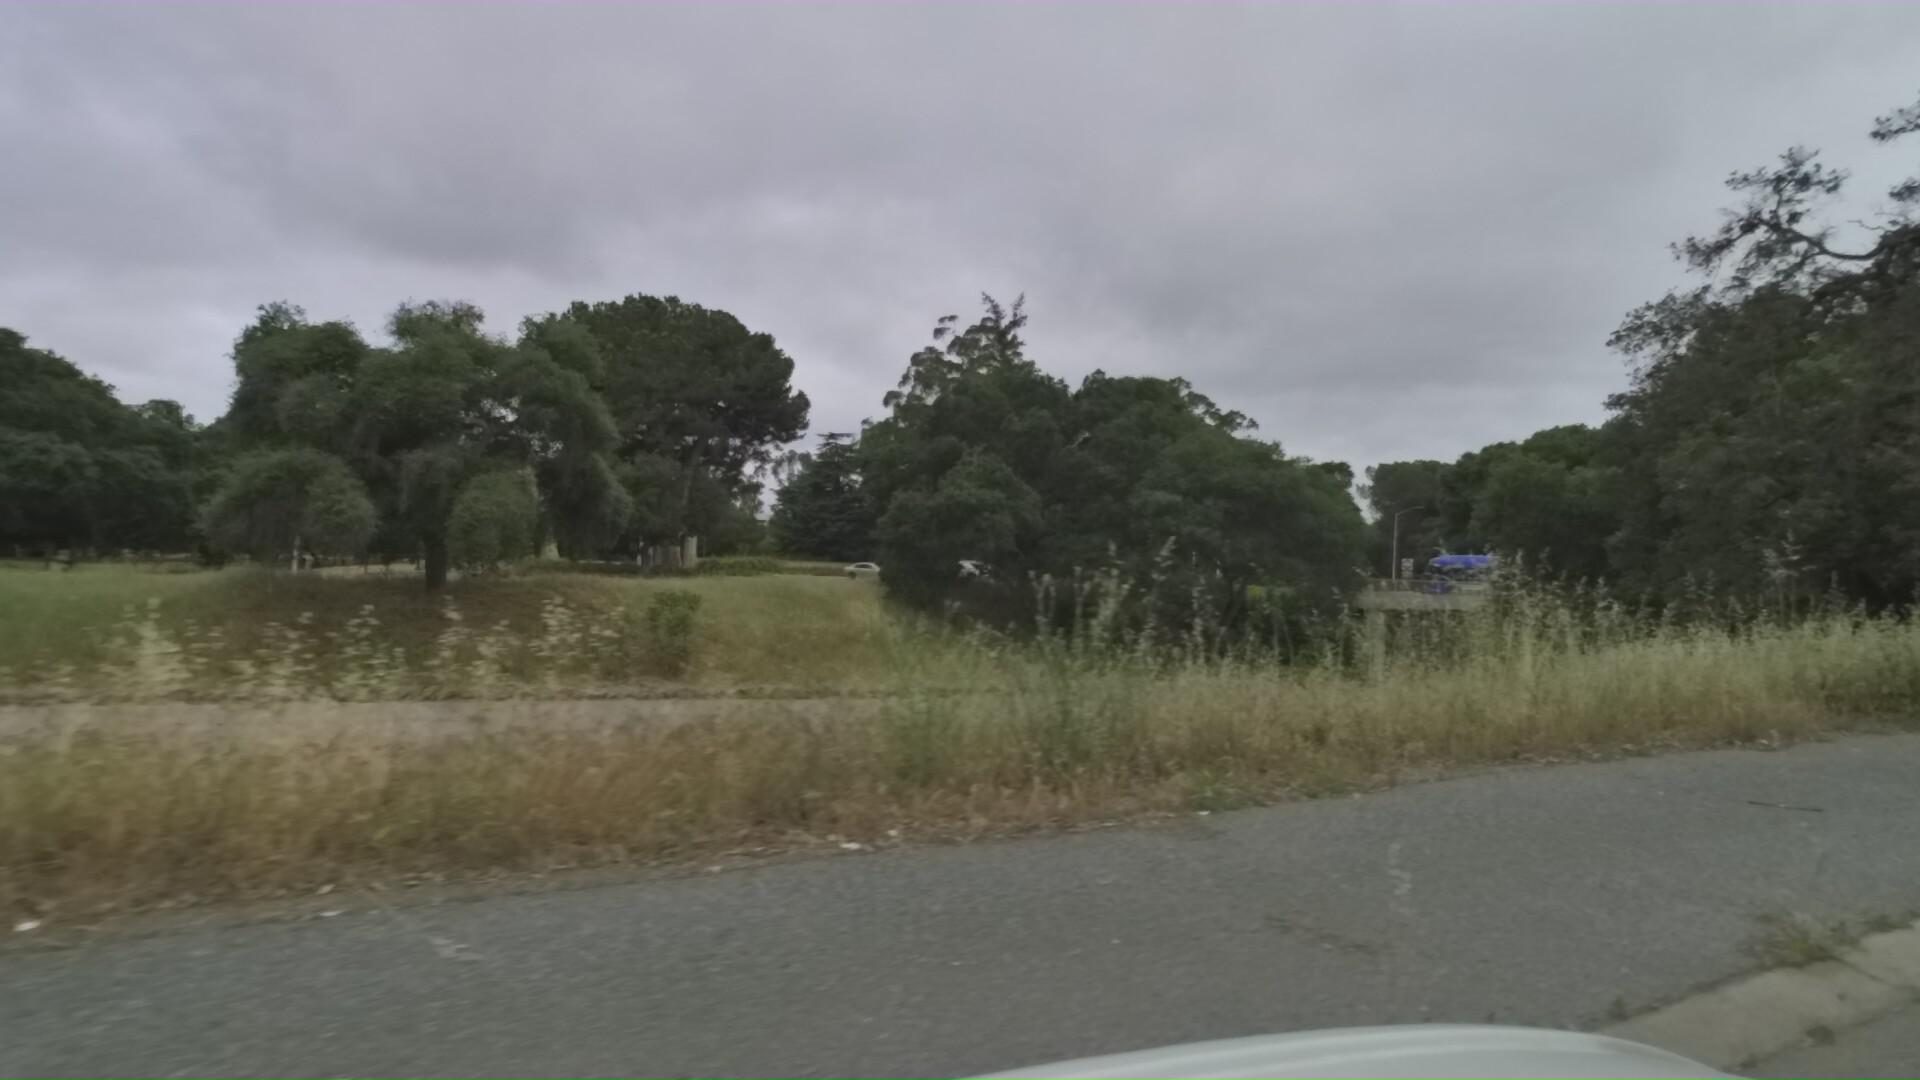bus: (1407, 546, 1687, 607)
car: (825, 553, 899, 579)
